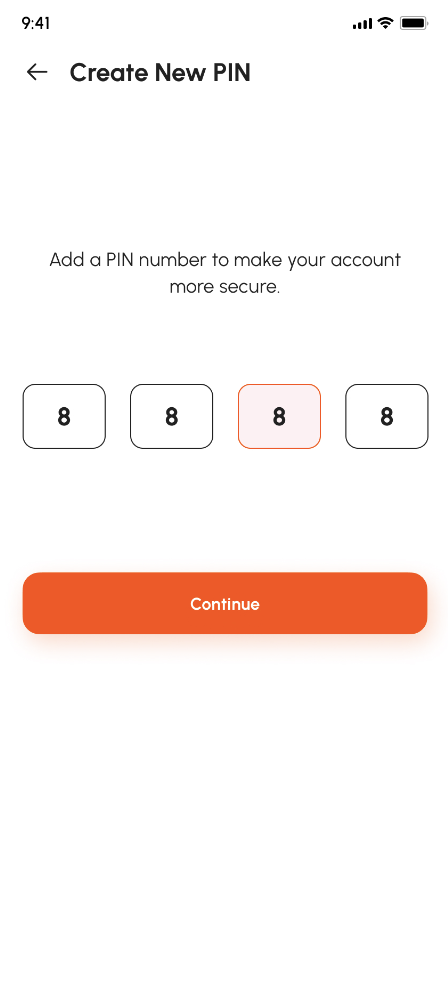AppBar: (1, 33, 448, 88)
